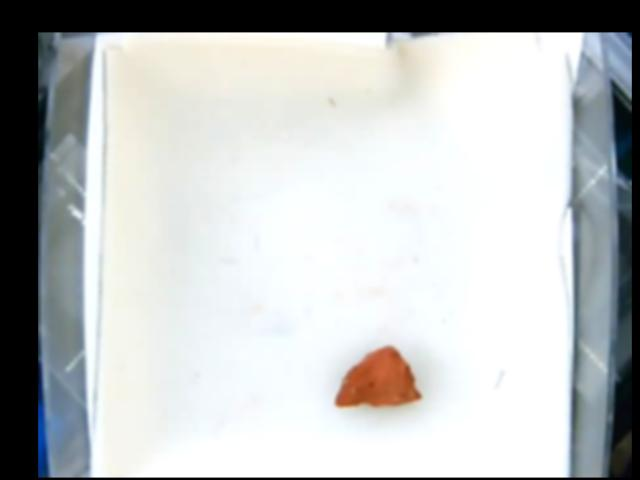Brisk: (334, 344, 424, 408)
